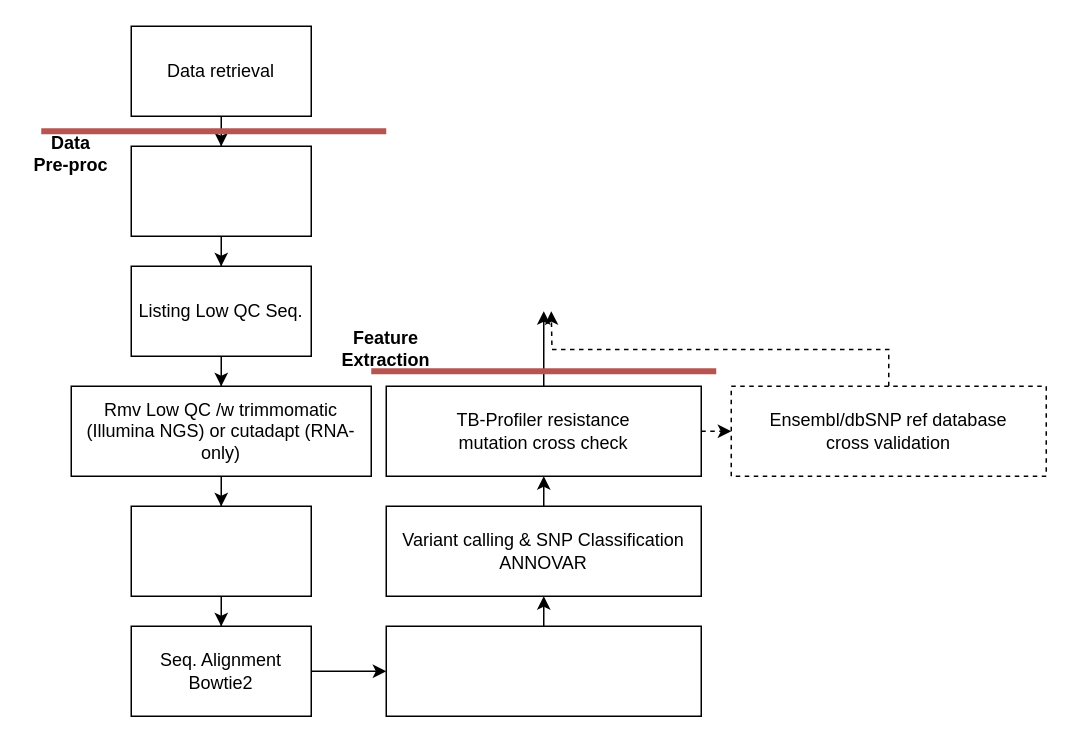
Some shapes in this 1073 by 743 pixel diagram are drawn without their labels. The centre of each missing label's shape, as x and y in pixels:
"Reading/writing/editing/indexing SAM/BAM output from previous step" goes at (543,670).
"Rmv contaminant /w BLAST or Kraken" goes at (220,550).
"Seq. qc /w FastQC" goes at (220,190).
